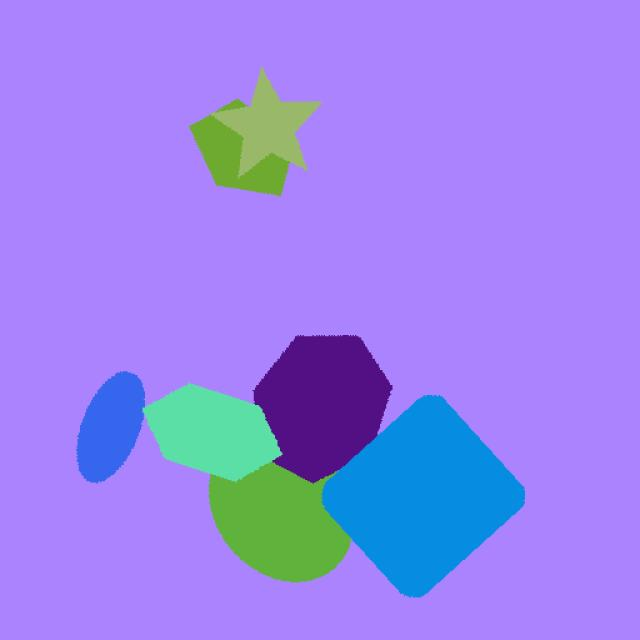Circle: (205, 424, 357, 597)
Heptagon: (240, 317, 399, 483)
Hexagon: (142, 378, 279, 489)
Oval: (58, 364, 152, 501)
Pentagon: (168, 103, 300, 207)
Star: (215, 64, 324, 176)
square: (318, 378, 539, 608)
